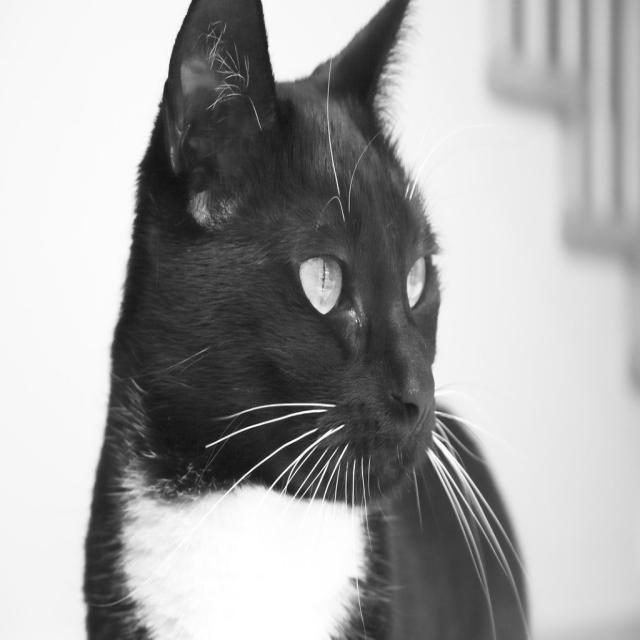Cat: (78, 0, 530, 638)
